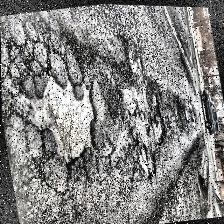pothole: (9, 63, 109, 177), (149, 111, 167, 146), (121, 86, 139, 116)
